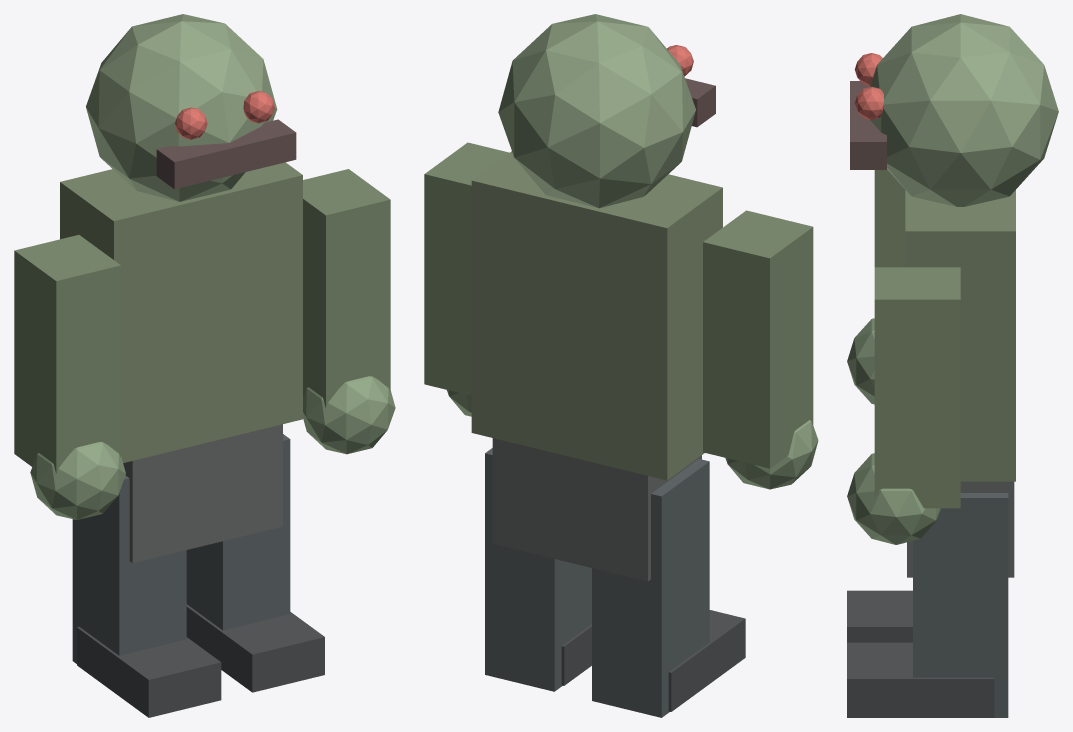
File: zombie.glb
3 views of the same model, side by side, from view 1: azimuth 30°, elevation 25°; view 2: azimuth 150°, elevation 25°; view 3: azimuth 270°, elevation 25° (orthographic). The views are drawn at different scales.
Parts seen in each view (by area): view 1: jacket, arm-0.52, head, arm0.52, hips, leg-0.2, leg0.2, shoe-0.2, shoe0.2, mouth, hand-0.52, hand0.52 (+2 smaller); view 2: jacket, head, arm-0.52, leg-0.2, hips, leg0.2, arm0.52, shoe-0.2, hand-0.52, shoe0.2, mouth; view 3: head, arm0.52, jacket, leg0.2, shoe0.2, hand0.52, shoe-0.2, arm-0.52, mouth, hand-0.52, hips, eye0.13 (+1 smaller).
Boxes of the visible parts, left/top/right/bottom form: jacket: left=60, top=162, right=302, bottom=462; arm-0.52: left=14, top=235, right=120, bottom=473; head: left=86, top=14, right=277, bottom=201; arm0.52: left=303, top=169, right=390, bottom=408; hips: left=123, top=424, right=282, bottom=563; leg-0.2: left=72, top=475, right=186, bottom=663; leg0.2: left=186, top=434, right=290, bottom=630; shoe-0.2: left=77, top=627, right=221, bottom=717; shoe0.2: left=186, top=604, right=324, bottom=692; mouth: left=156, top=119, right=296, bottom=189; hand-0.52: left=30, top=442, right=125, bottom=519; hand0.52: left=303, top=376, right=395, bottom=454; jacket: left=471, top=151, right=722, bottom=480; head: left=498, top=14, right=695, bottom=208; arm-0.52: left=703, top=210, right=813, bottom=468; leg-0.2: left=592, top=459, right=709, bottom=717; hips: left=492, top=438, right=701, bottom=581; leg0.2: left=485, top=448, right=591, bottom=691; arm0.52: left=424, top=142, right=509, bottom=395; shoe-0.2: left=668, top=610, right=745, bottom=711; hand-0.52: left=725, top=420, right=818, bottom=489; shoe0.2: left=561, top=624, right=591, bottom=685; mouth: left=685, top=78, right=715, bottom=127; head: left=870, top=14, right=1058, bottom=206; arm0.52: left=874, top=267, right=960, bottom=508; jacket: left=905, top=190, right=1015, bottom=481; leg0.2: left=913, top=493, right=1008, bottom=717; shoe0.2: left=847, top=642, right=994, bottom=717; hand0.52: left=847, top=453, right=941, bottom=544; shoe-0.2: left=847, top=590, right=912, bottom=642; arm-0.52: left=874, top=170, right=905, bottom=267; mouth: left=850, top=81, right=886, bottom=169; hand-0.52: left=847, top=318, right=874, bottom=404; hips: left=907, top=481, right=1014, bottom=577; eye0.13: left=854, top=86, right=883, bottom=119.
Size of the model in its own units: 1.36 by 2.34 by 0.69.
